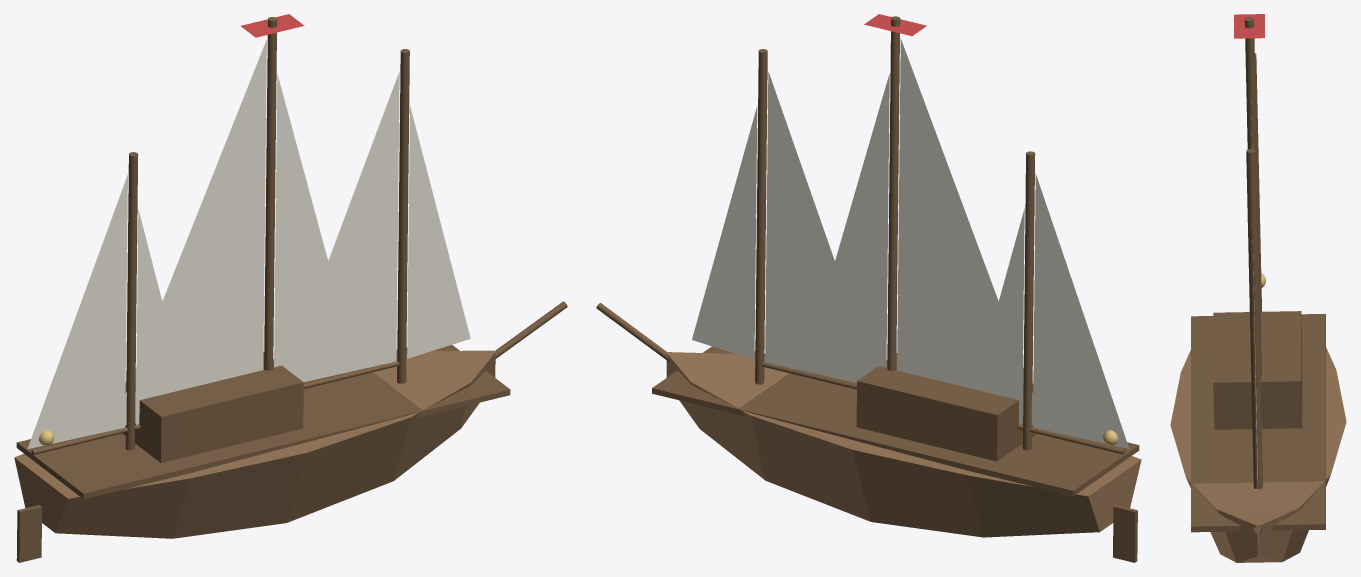
Rendered from asset.glb.
The picture shows the model from 3 angles, left to right: view 1: azimuth 30°, elevation 25°; view 2: azimuth 150°, elevation 25°; view 3: azimuth 270°, elevation 25°; orthographic projection. The views are drawn at different scales.
Visible parts, largest first — view 1: hull, sail_mast_main, deck, jib_mast_main, sail_mast_fore, sail_mast_mizzen, cabin, jib_mast_fore, jib_mast_mizzen, mast_main, mast_fore, mast_mizzen (+3 smaller); view 2: hull, sail_mast_main, sail_mast_fore, deck, sail_mast_mizzen, jib_mast_main, cabin, jib_mast_fore, mast_main, mast_fore, mast_mizzen, jib_mast_mizzen (+2 smaller); view 3: deck, hull, cabin, mast_fore, mast_main, flag_main, mast_mizzen.
Part boxes in pixels (x1,y1,x2,y2): hull: (14, 350, 495, 538); sail_mast_main: (112, 39, 266, 428); deck: (16, 345, 510, 499); jib_mast_main: (274, 74, 356, 382); sail_mast_fore: (308, 71, 399, 381); sail_mast_mizzen: (27, 174, 127, 449); cabin: (122, 352, 303, 462); jib_mast_fore: (407, 106, 470, 358); jib_mast_mizzen: (136, 209, 184, 424); mast_main: (264, 17, 277, 370); mast_fore: (397, 49, 409, 383); mast_mizzen: (125, 152, 138, 450); hull: (666, 352, 1141, 537); sail_mast_main: (897, 38, 1045, 428); sail_mast_fore: (765, 71, 872, 382); deck: (652, 346, 1139, 496); sail_mast_mizzen: (1033, 174, 1129, 448); jib_mast_main: (804, 74, 889, 382); cabin: (856, 353, 1036, 461); jib_mast_fore: (692, 106, 757, 359); mast_main: (887, 16, 900, 370); mast_fore: (755, 49, 767, 384); mast_mizzen: (1022, 151, 1035, 450); jib_mast_mizzen: (984, 208, 1024, 424); deck: (1191, 314, 1325, 532); hull: (1170, 347, 1346, 562); cabin: (1213, 311, 1302, 429); mast_fore: (1246, 149, 1262, 489); mast_main: (1244, 17, 1261, 376); flag_main: (1234, 14, 1264, 38); mast_mizzen: (1255, 53, 1261, 311).
Bounding box in the file's own units: 12.31 × 10.52 × 3.4.
